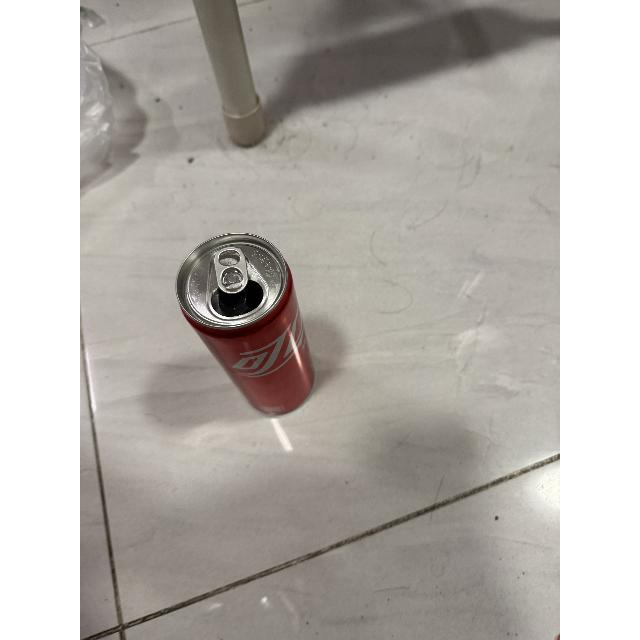coca-cola: (174, 227, 326, 421)
